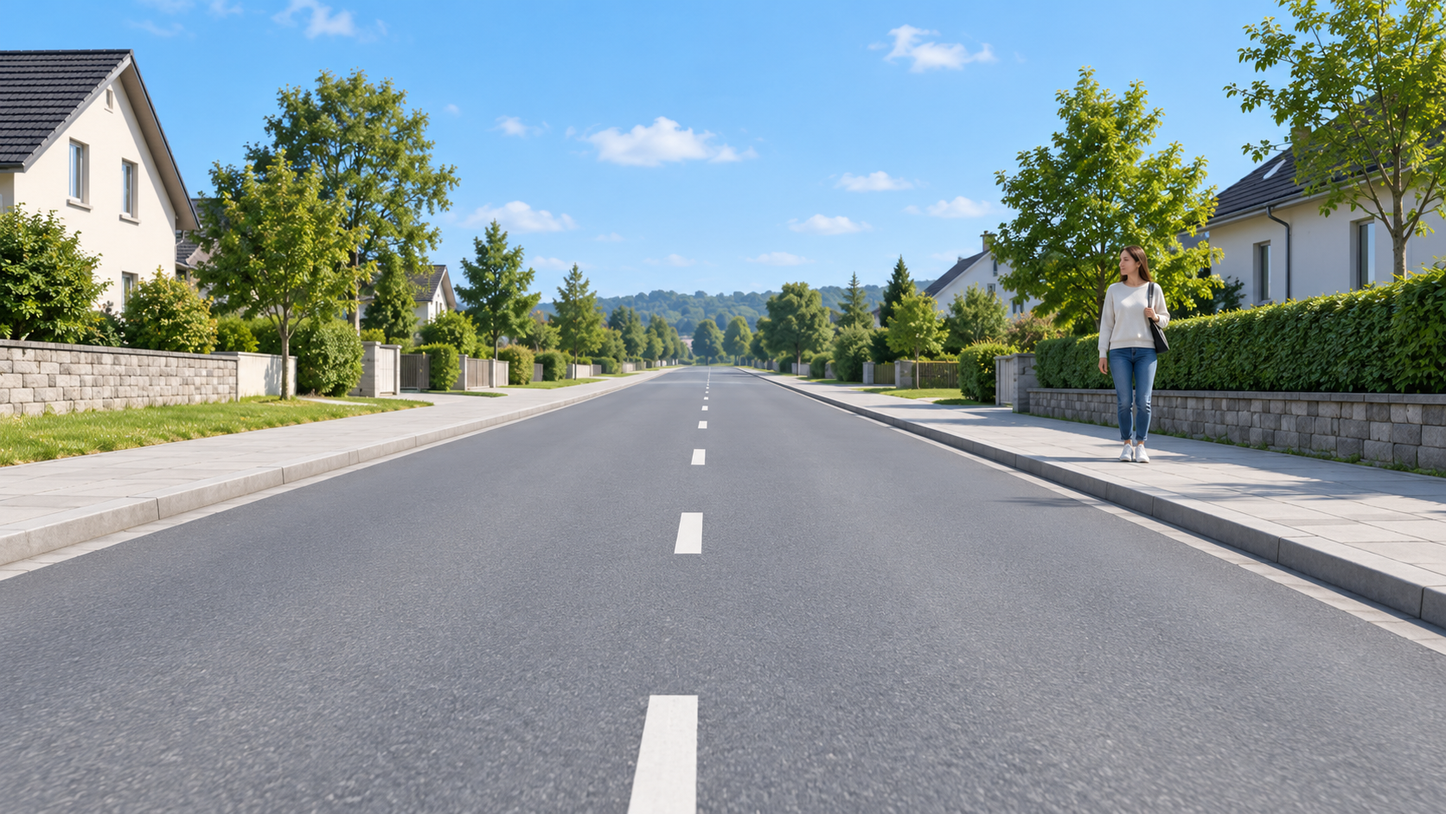person: (1094, 243, 1176, 457)
